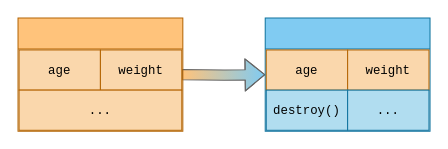
This 448x149 diagram has some shape labels left out. Here are the shapes that lost their labels. From the top down, the box of each, then its label:
(17, 17, 183, 131): 基类 Dog
(264, 17, 430, 131): 派生类 Husky
